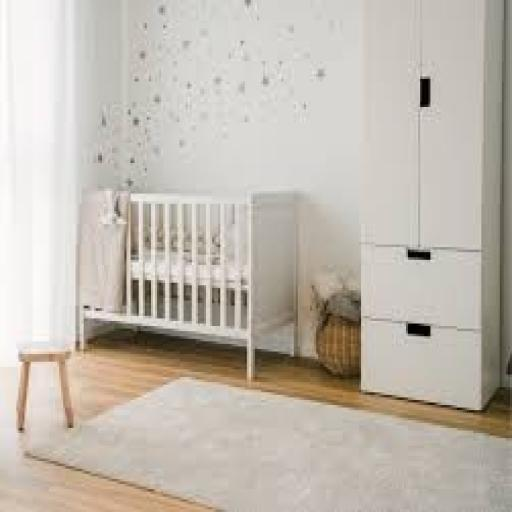crib: (80, 194, 295, 379)
